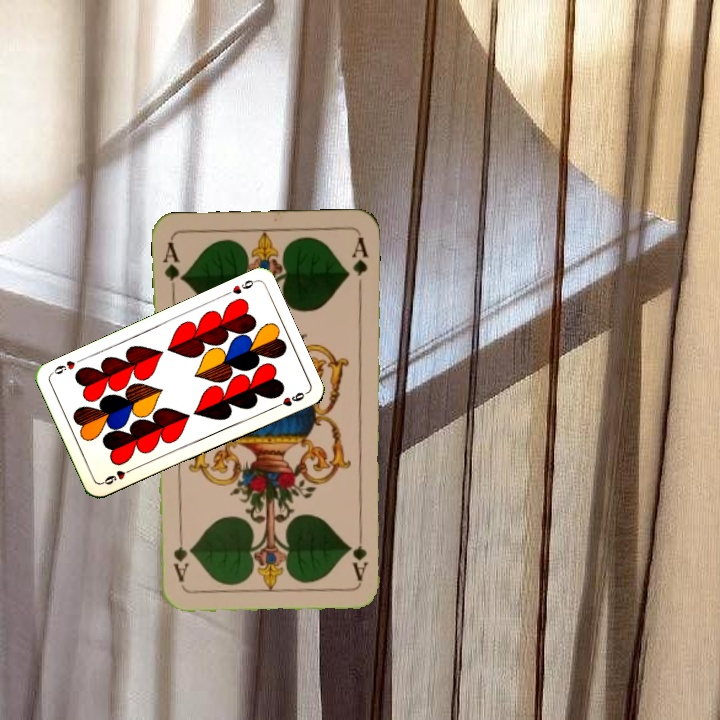GA: (159, 237, 186, 296), (350, 524, 371, 583)
H9: (98, 464, 137, 487), (220, 276, 259, 299)
